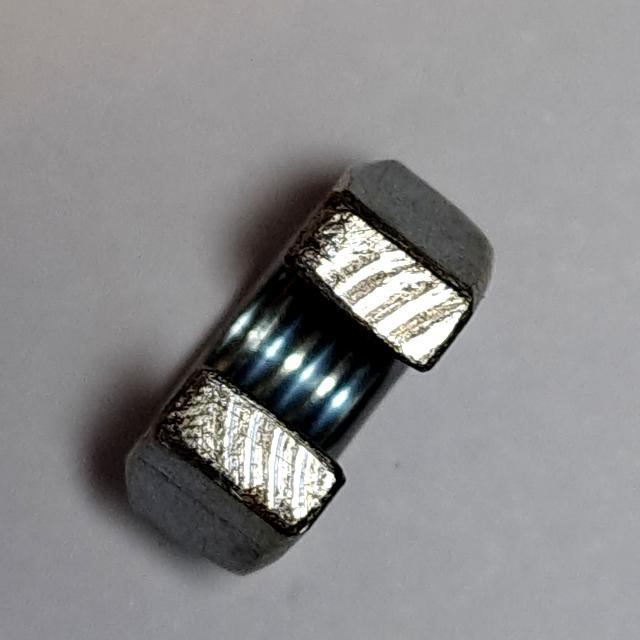Side-Fracture: (111, 147, 507, 587)
